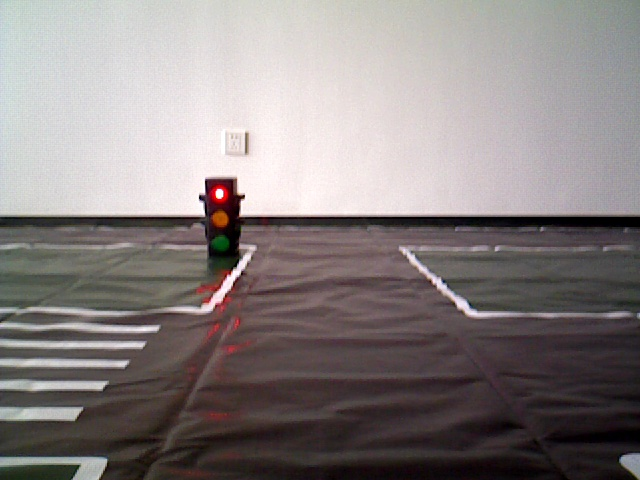red: (204, 180, 236, 263)
